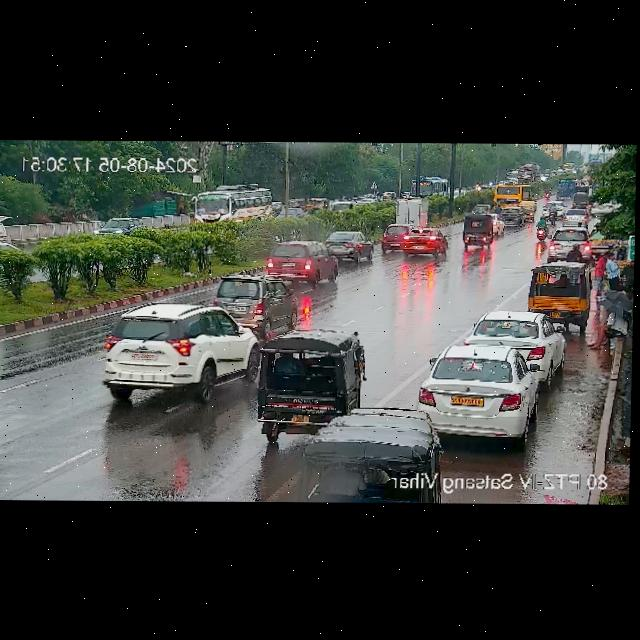bus: (189, 184, 276, 229), (493, 183, 529, 202)
car: (98, 302, 254, 401), (253, 328, 362, 434), (419, 346, 540, 438), (466, 311, 563, 371), (210, 274, 284, 330), (525, 261, 593, 317), (261, 240, 335, 288), (323, 230, 376, 263), (400, 229, 449, 259), (459, 214, 499, 247), (545, 230, 588, 259), (94, 215, 142, 239), (380, 227, 407, 255), (495, 208, 523, 226), (559, 209, 589, 225), (471, 203, 496, 214), (520, 204, 535, 220), (573, 192, 588, 207), (517, 199, 536, 210)
motorcycle: (534, 216, 550, 240), (546, 201, 563, 219), (545, 186, 551, 198)
person: (592, 314, 628, 355), (591, 249, 619, 290)
truck: (396, 197, 434, 229)
